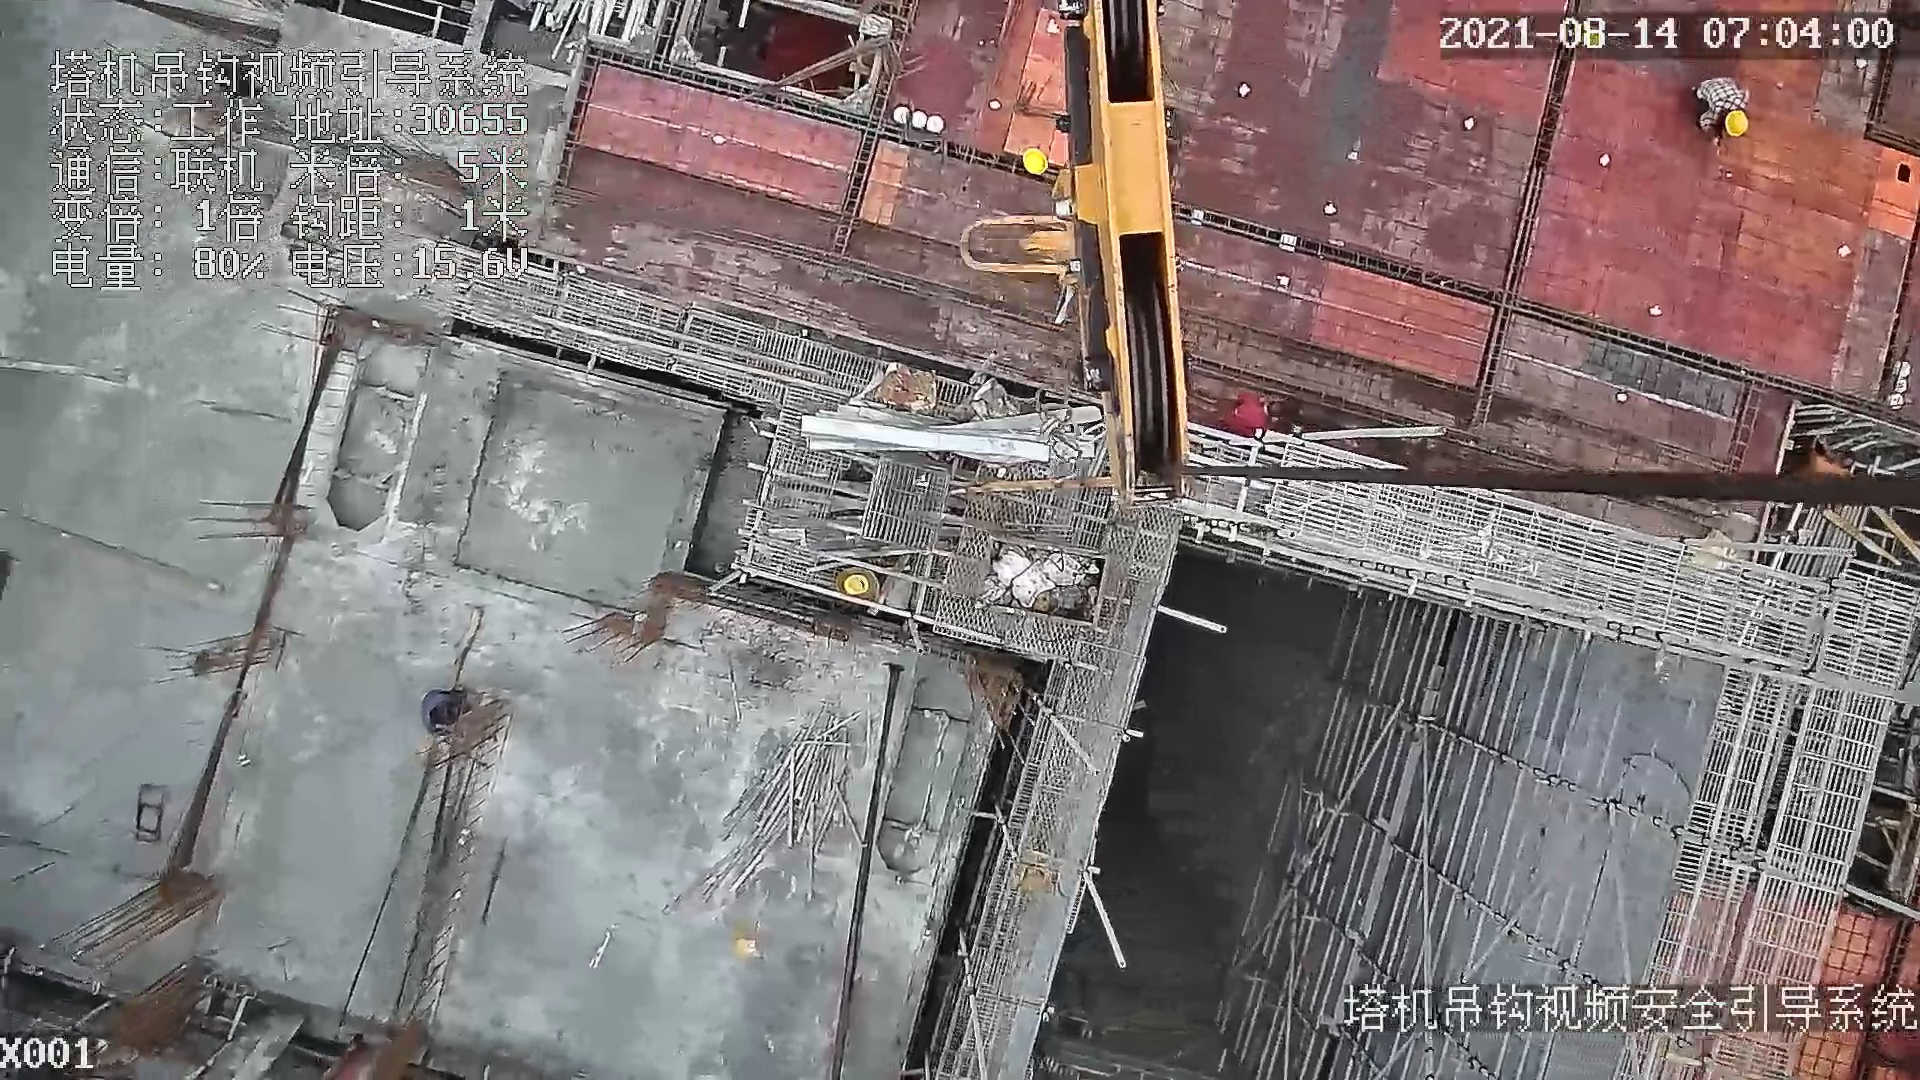helmet: (1019, 143, 1048, 179), (1725, 106, 1751, 138)
hook: (960, 1, 1192, 510)
person: (1694, 74, 1754, 150), (1794, 432, 1863, 479), (1226, 389, 1292, 434), (417, 684, 468, 736)
